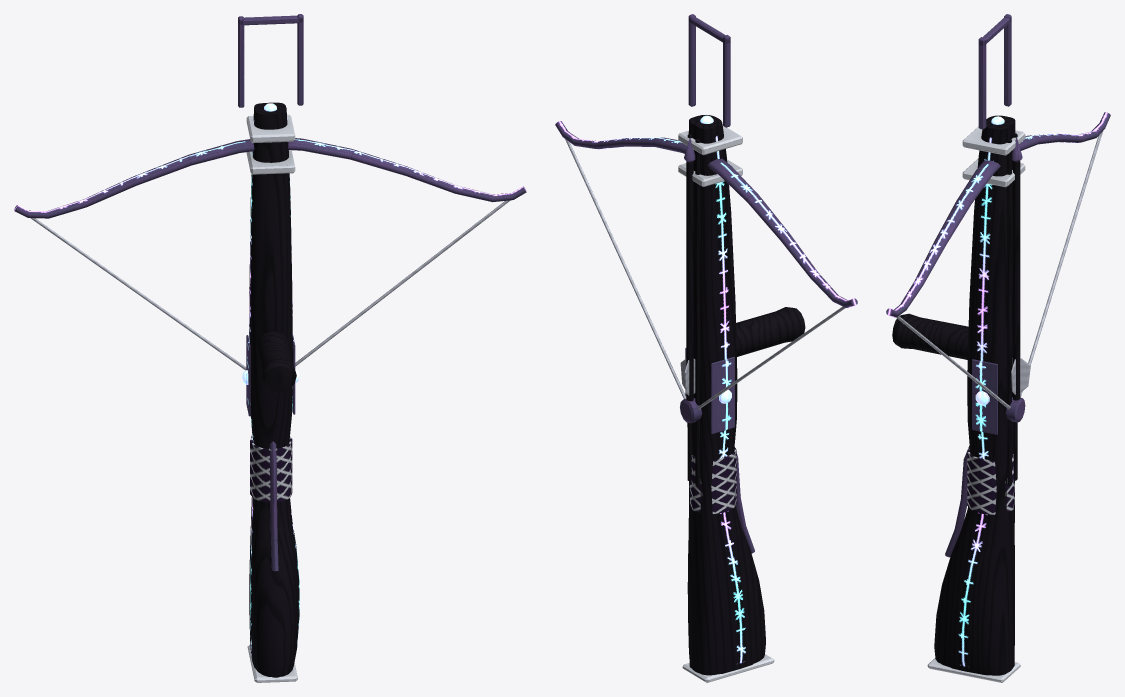
File: w_crossbow_t4.glb
The picture shows the model from 3 angles, left to right: view 1: azimuth 30°, elevation 25°; view 2: azimuth 150°, elevation 25°; view 3: azimuth 270°, elevation 25°; orthographic projection.
Visible parts, largest first — view 1: w_crossbow; view 2: w_crossbow; view 3: w_crossbow.
Part boxes in pixels (x1=…): w_crossbow: x1=14, y1=14, x2=526, y2=682; w_crossbow: x1=555, y1=14, x2=857, y2=682; w_crossbow: x1=886, y1=14, x2=1110, y2=682.
Size of the model in its own units: 37.72 by 56.95 by 17.96.
1 material, 1 textured.
